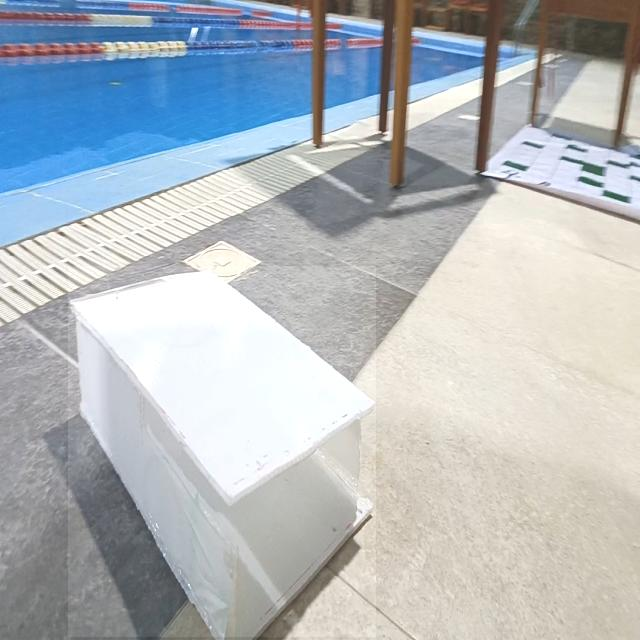Cuboid: (68, 266, 376, 637)
